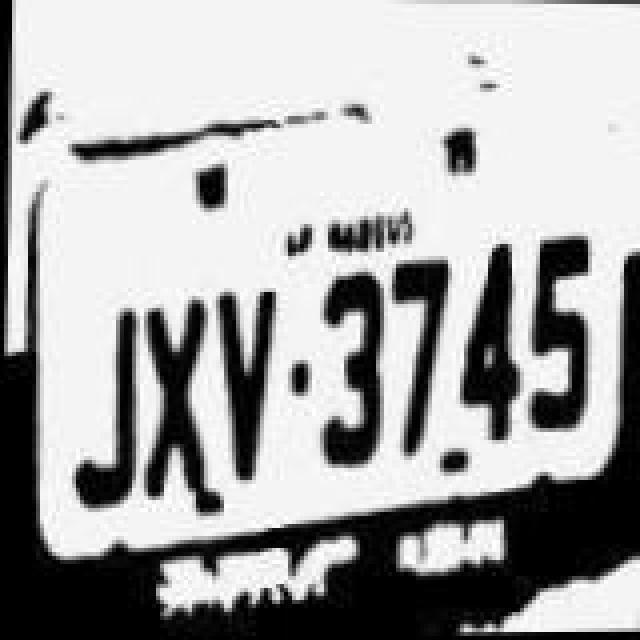3: (304, 264, 388, 488)
4: (452, 222, 532, 450)
5: (516, 202, 604, 458)
7: (376, 248, 452, 472)
J: (66, 268, 146, 512)
V: (204, 270, 280, 506)
X: (132, 268, 216, 500)
